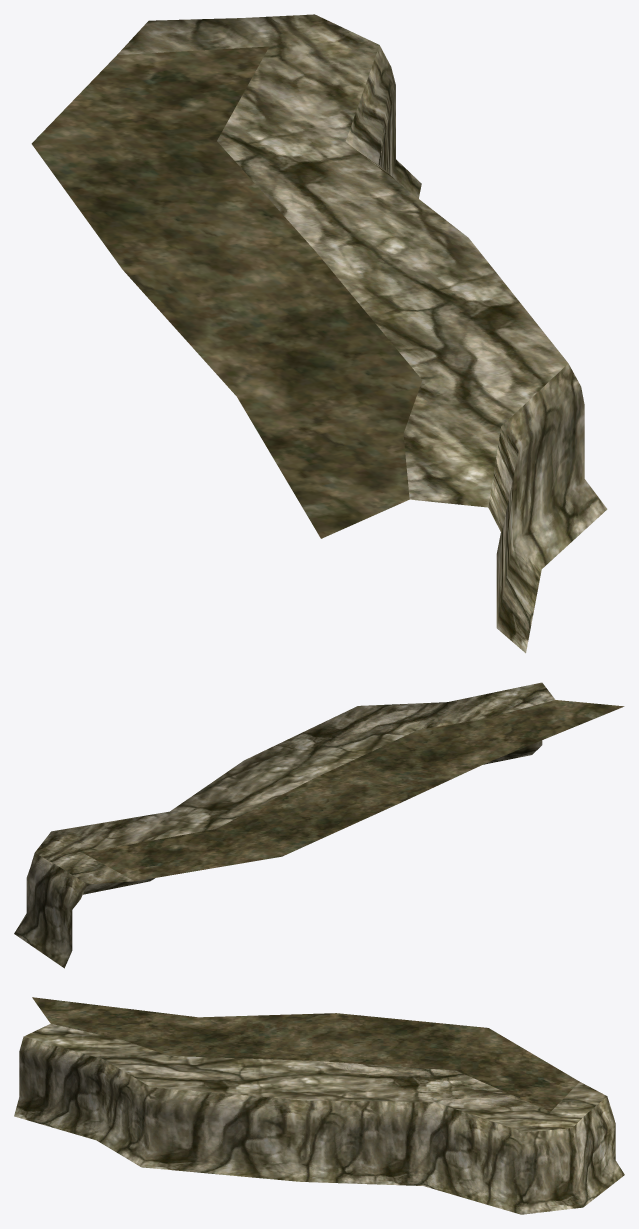
Rendered from CB_NEWPLAYSURFACE_CB_PLAYSURFACE82.fbx.
The picture shows the model from 3 angles, top to bottom: view 1: azimuth 30°, elevation 25°; view 2: azimuth 150°, elevation 25°; view 3: azimuth 270°, elevation 25°; orthographic projection. The views are drawn at different scales.
Visible parts, largest first — view 1: CB_NEWPLAYSURFACE_CB_PLAYSURFACE82; view 2: CB_NEWPLAYSURFACE_CB_PLAYSURFACE82; view 3: CB_NEWPLAYSURFACE_CB_PLAYSURFACE82.
Part boxes in pixels (x1,y1,x2,y2): CB_NEWPLAYSURFACE_CB_PLAYSURFACE82: [31, 14, 607, 653]; CB_NEWPLAYSURFACE_CB_PLAYSURFACE82: [14, 682, 624, 968]; CB_NEWPLAYSURFACE_CB_PLAYSURFACE82: [14, 997, 624, 1214].
Bounding box in the file's own units: 148456 × 40186 × 266129.
Materials: 3 (3 with a texture image).
